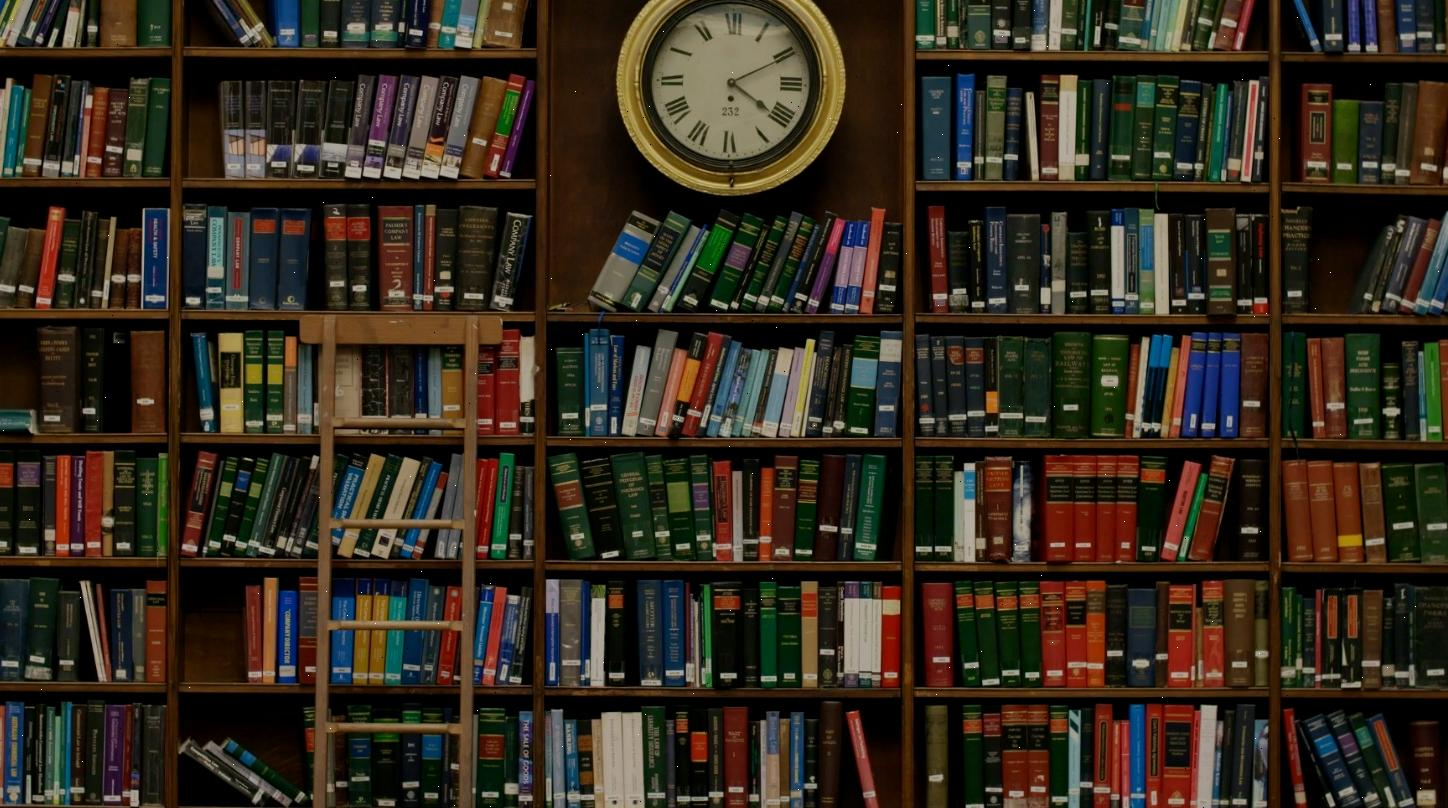book: (326, 574, 477, 685), (325, 445, 460, 557), (181, 448, 318, 557), (629, 208, 693, 313), (1299, 712, 1360, 808), (184, 736, 267, 806), (545, 454, 596, 560), (610, 451, 658, 560), (1187, 455, 1235, 563), (579, 453, 626, 561), (1367, 712, 1417, 808), (455, 207, 498, 313), (1348, 222, 1397, 313), (35, 327, 78, 430), (1160, 457, 1203, 559), (483, 74, 523, 183), (179, 449, 219, 557), (489, 210, 531, 312), (1051, 331, 1090, 439), (1090, 335, 1129, 440), (1409, 79, 1448, 183), (852, 451, 889, 560), (423, 73, 461, 178), (1381, 461, 1421, 560), (1344, 332, 1381, 438), (378, 207, 414, 311), (1161, 703, 1196, 808), (276, 209, 312, 311), (844, 706, 880, 808), (363, 74, 398, 178), (1412, 584, 1448, 685), (184, 0, 254, 51), (1305, 459, 1340, 560), (1221, 578, 1254, 685), (1136, 453, 1169, 560), (129, 333, 164, 433), (919, 582, 952, 687), (24, 578, 58, 679), (1414, 461, 1448, 562), (1299, 82, 1334, 180), (1281, 460, 1315, 560), (1332, 462, 1366, 561), (1281, 209, 1313, 314), (1205, 206, 1236, 314), (1041, 455, 1072, 563), (77, 579, 110, 680), (1178, 332, 1208, 442), (1125, 588, 1158, 688), (34, 206, 66, 309), (1008, 211, 1040, 314), (1406, 719, 1443, 808), (982, 458, 1012, 567), (920, 76, 951, 181), (1238, 332, 1269, 437), (344, 74, 376, 175), (1165, 581, 1196, 685), (858, 209, 887, 320), (247, 208, 278, 311), (1234, 458, 1265, 561), (21, 75, 52, 177), (953, 580, 982, 688), (1039, 580, 1068, 687), (816, 698, 844, 808), (1069, 455, 1097, 564), (1320, 335, 1349, 440), (322, 78, 353, 176), (142, 76, 172, 176), (1358, 463, 1388, 562), (181, 201, 208, 310), (296, 79, 326, 176), (1152, 76, 1180, 179), (14, 451, 42, 554), (999, 705, 1027, 808), (476, 709, 505, 808), (494, 327, 521, 433), (142, 207, 170, 309), (346, 203, 372, 312), (0, 578, 28, 679), (874, 221, 903, 317), (80, 326, 106, 433), (122, 78, 150, 177), (721, 706, 748, 808), (481, 0, 535, 51), (432, 207, 458, 312), (111, 452, 137, 555), (1131, 77, 1157, 180), (190, 332, 217, 431), (923, 706, 949, 808), (330, 578, 355, 684), (218, 331, 245, 429), (54, 219, 82, 313), (1282, 707, 1308, 808), (926, 206, 951, 311), (1194, 703, 1219, 808), (1282, 333, 1307, 438), (267, 79, 294, 176), (135, 455, 161, 555), (959, 704, 984, 808), (1109, 77, 1134, 180), (323, 205, 347, 311), (106, 327, 131, 428), (1331, 100, 1361, 184), (101, 85, 128, 178), (0, 223, 29, 309), (933, 454, 955, 566), (984, 206, 1007, 312), (1038, 76, 1061, 180), (83, 450, 106, 553), (984, 75, 1007, 178), (954, 73, 976, 180), (243, 327, 266, 429), (981, 706, 1004, 808), (145, 582, 168, 683), (439, 340, 465, 429), (220, 79, 244, 174), (205, 204, 227, 307), (143, 703, 165, 806), (914, 455, 935, 562), (1305, 335, 1327, 437), (1279, 0, 1322, 52), (1357, 101, 1384, 183), (297, 577, 318, 682), (420, 720, 445, 808), (1397, 83, 1419, 182), (946, 225, 970, 315), (89, 220, 112, 313), (244, 80, 266, 177), (265, 331, 286, 432), (1211, 0, 1253, 50), (1188, 0, 1228, 52), (103, 704, 124, 803), (276, 588, 298, 682), (1382, 84, 1403, 181), (400, 721, 423, 807), (347, 729, 372, 808), (517, 335, 537, 433), (372, 732, 398, 807), (244, 583, 264, 680), (108, 228, 130, 314), (1380, 357, 1403, 439), (452, 0, 488, 51), (99, 0, 137, 47), (135, 0, 171, 46), (434, 0, 467, 50), (300, 705, 317, 801), (371, 0, 405, 47), (124, 227, 143, 310), (340, 0, 373, 47), (1119, 0, 1151, 48), (404, 0, 435, 49), (297, 343, 314, 432), (0, 449, 14, 553), (1024, 92, 1040, 181), (1316, 0, 1343, 52), (283, 337, 298, 430), (270, 0, 299, 48), (423, 206, 436, 311), (964, 0, 991, 50), (1393, 0, 1418, 51), (62, 0, 88, 48), (1374, 0, 1397, 53), (1413, 0, 1436, 52), (298, 0, 321, 47), (319, 0, 342, 47), (914, 0, 935, 49), (1030, 0, 1051, 49), (990, 0, 1011, 49), (1343, 0, 1362, 53), (1090, 0, 1110, 50), (1360, 0, 1379, 52), (0, 406, 36, 433), (1438, 339, 1448, 436), (1103, 0, 1123, 47), (82, 0, 101, 48), (1079, 0, 1096, 52), (1048, 0, 1066, 49), (1441, 87, 1448, 182)
